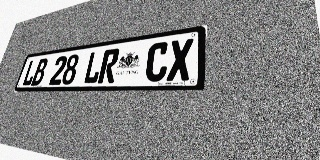2: (49, 55, 68, 85)
8: (60, 53, 81, 85)
B: (31, 58, 49, 86)
C: (144, 41, 170, 82)
L: (82, 50, 104, 84), (21, 59, 39, 86)
R: (97, 48, 120, 83)
X: (166, 38, 194, 81)
